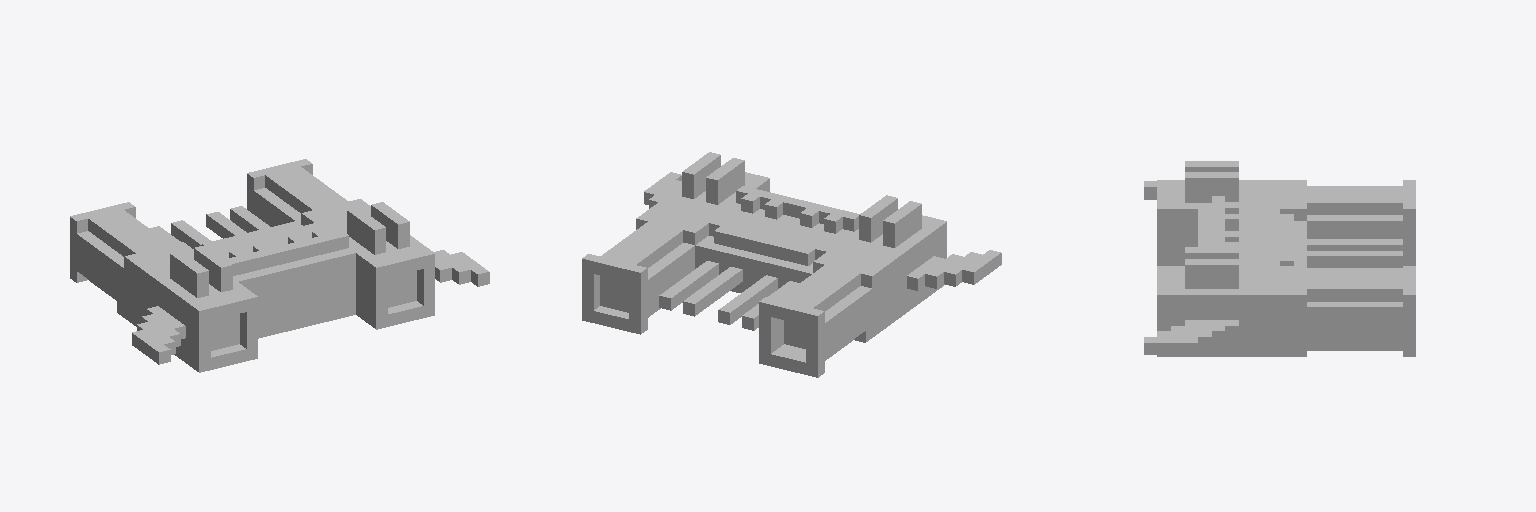
The model's file is Enemy1.3 1.obj.
3 views of the same model, side by side, from view 1: azimuth 30°, elevation 25°; view 2: azimuth 150°, elevation 25°; view 3: azimuth 270°, elevation 25° (orthographic).
Size of the model in its own units: 28 by 7 by 20.